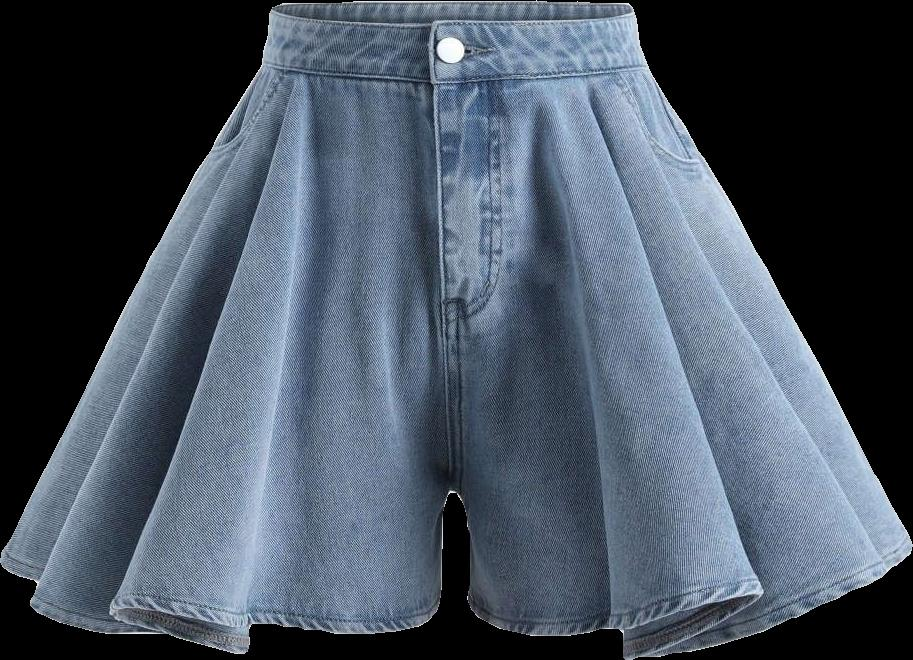Hemline: (466, 542, 912, 659), (0, 555, 442, 655)
Pantleg: (428, 1, 911, 659), (0, 0, 450, 653)
Waistline: (259, 58, 648, 86), (269, 4, 637, 29)
